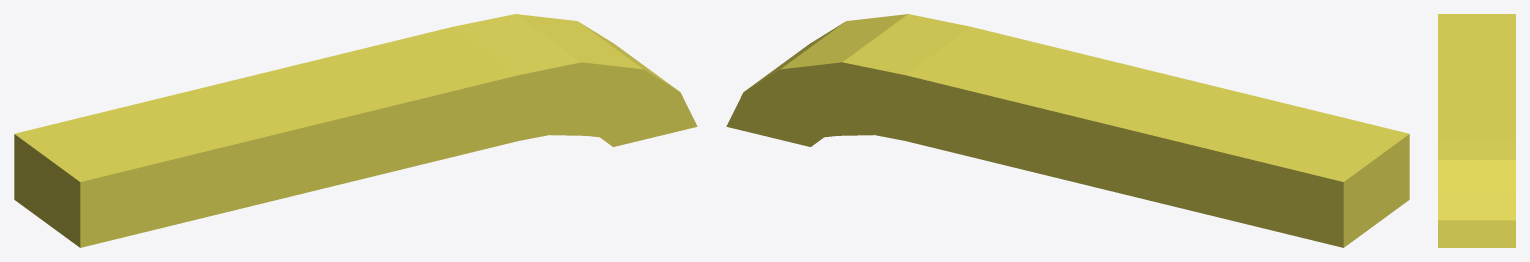
The model's file is Aérations.fbx.
3 views of the same model, side by side, from view 1: azimuth 30°, elevation 25°; view 2: azimuth 150°, elevation 25°; view 3: azimuth 270°, elevation 25° (orthographic). The views are drawn at different scales.
Parts seen in each view (by area): view 1: Aération; view 2: Aération; view 3: Aération.
Part boxes in pixels (x1,y1,x2,y2): Aération: (14, 14, 697, 247); Aération: (726, 14, 1409, 247); Aération: (1438, 14, 1515, 247).
Bounding box in the file's own units: 477 × 70.28 × 88.29.
